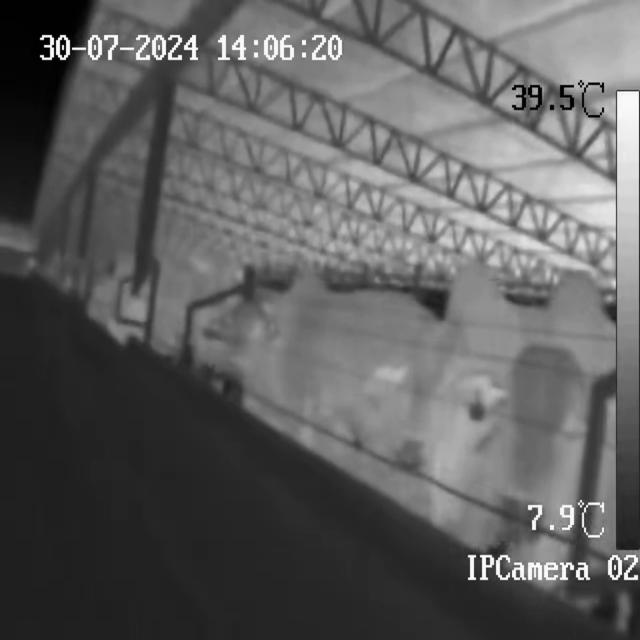eye: (558, 406, 579, 440)
head: (494, 343, 586, 538), (380, 320, 474, 473)
